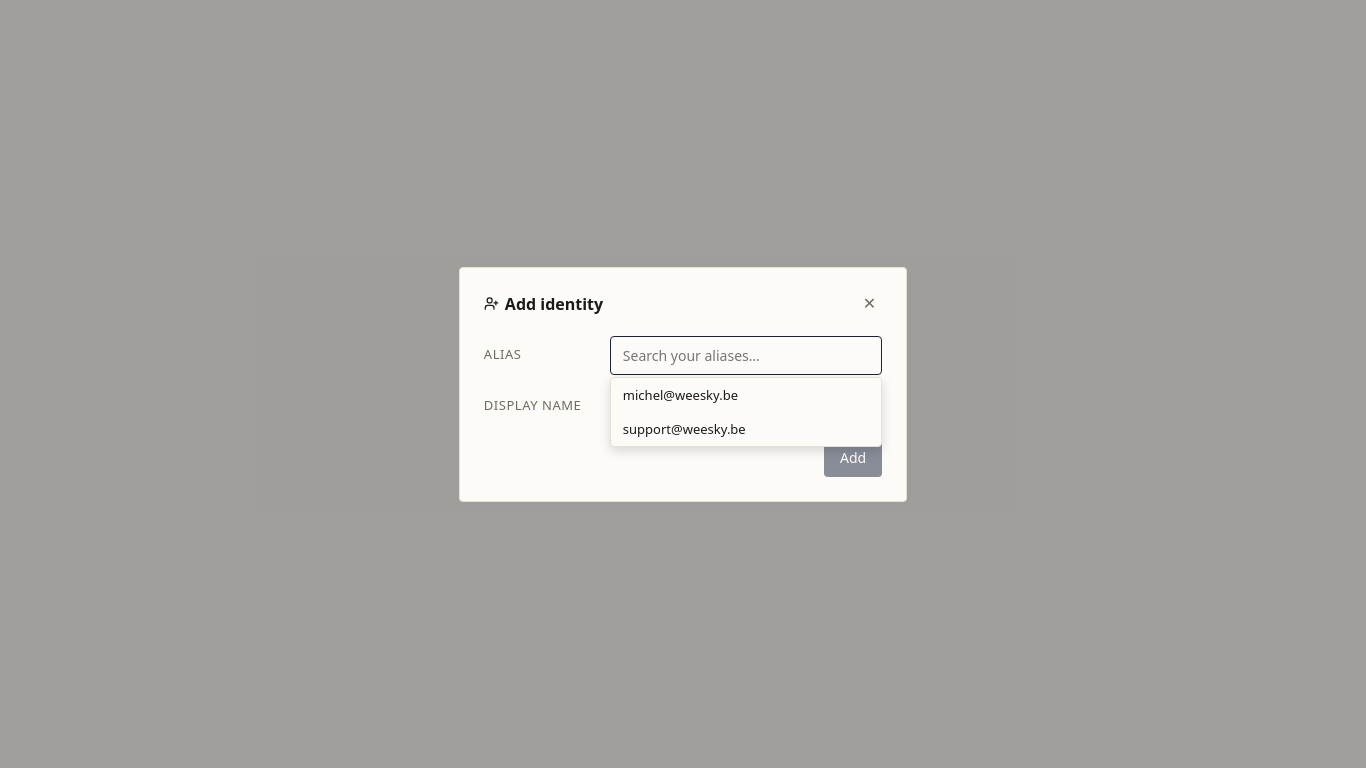
it: IdentityDialog › picking an alias fills the field and closes the dropdown
Type "mich" into the field labelled "Alias".
click(746, 355); type("mich")  # box 610,336 -> 882,374
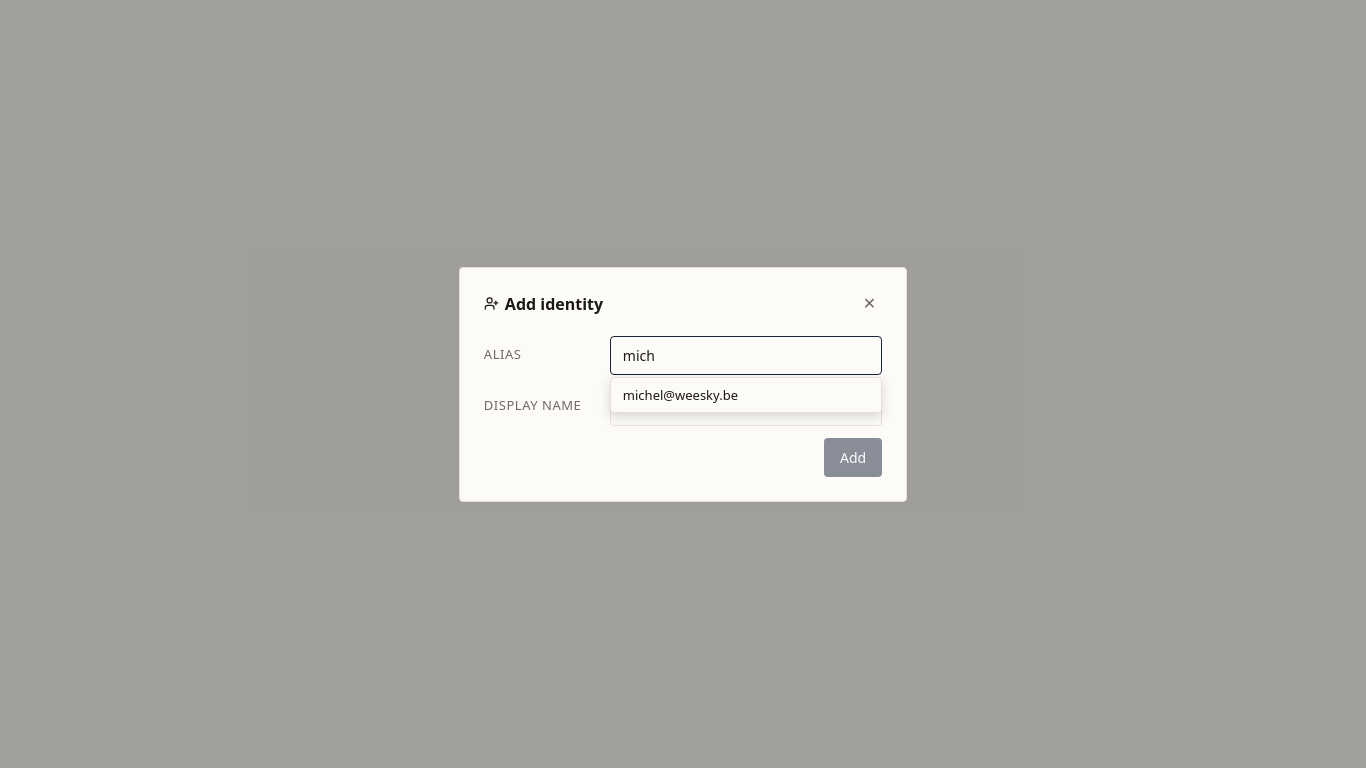
Press the mouse on the button "michel@weesky.be" at (680, 394), box 611,378 -> 881,412
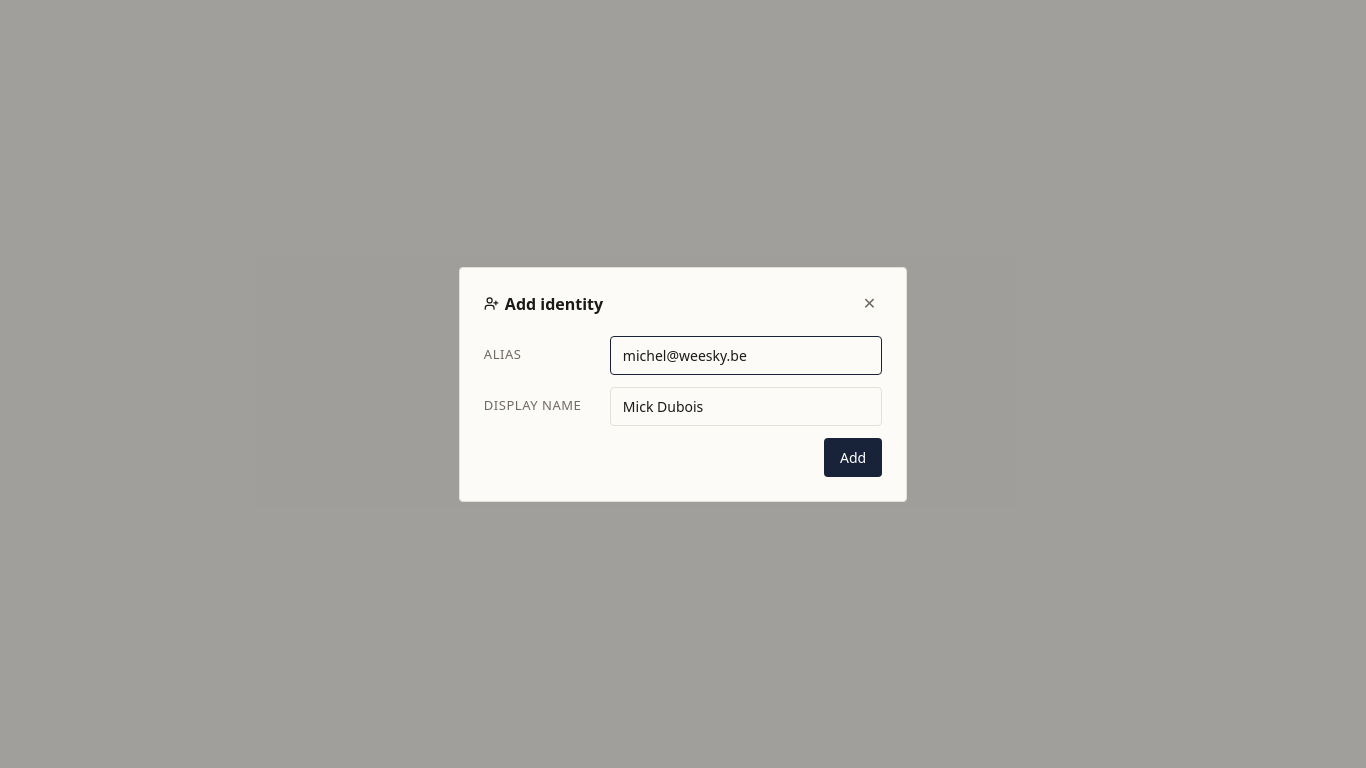
Expected: the field labelled "Alias" holds "michel@weesky.be", 610,336 -> 882,374
